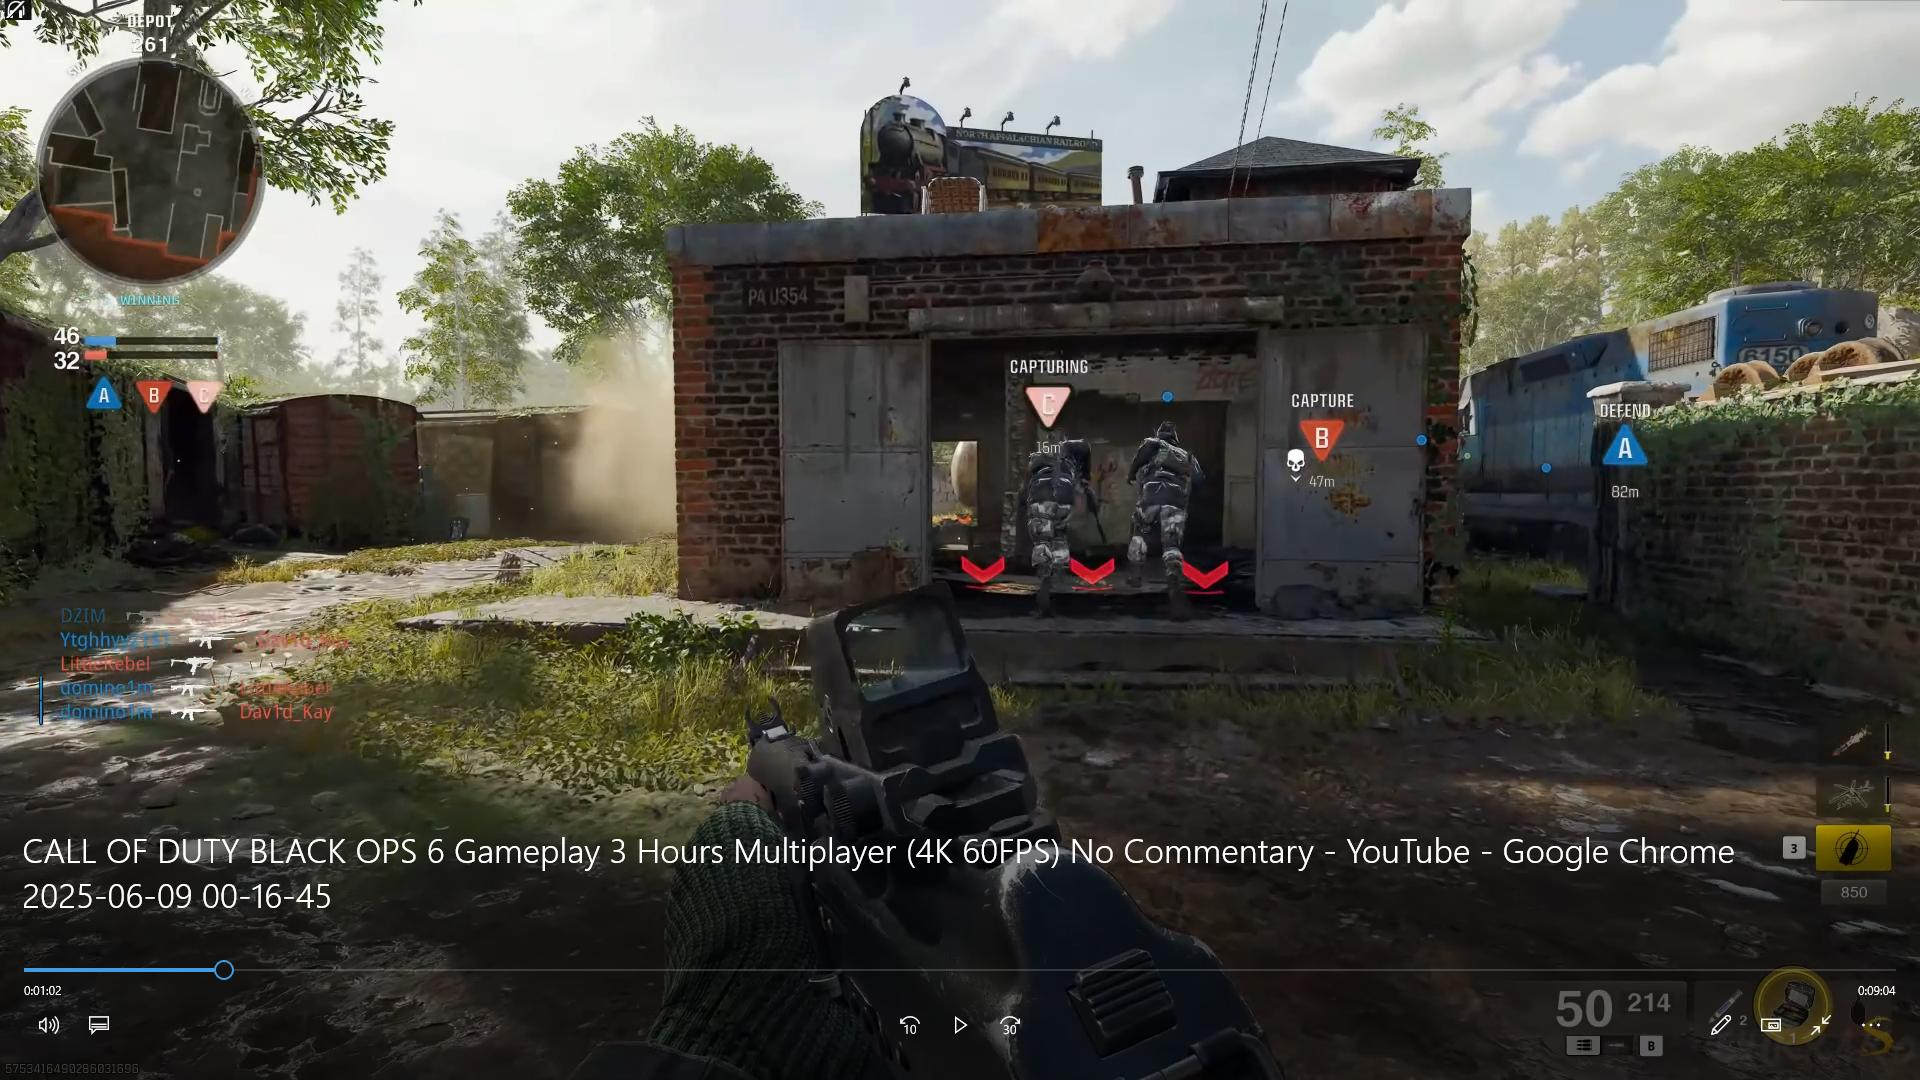Enemy: (1017, 435, 1079, 601), (1130, 422, 1188, 587)
